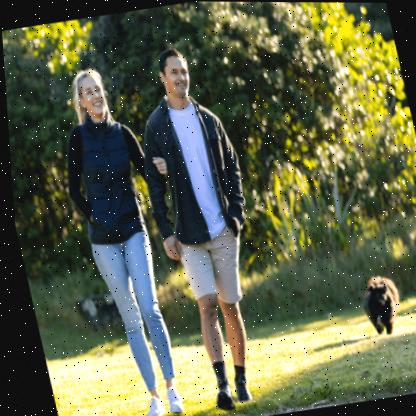dog: (342, 260, 416, 347)
person: (119, 45, 296, 416), (37, 58, 207, 416)
